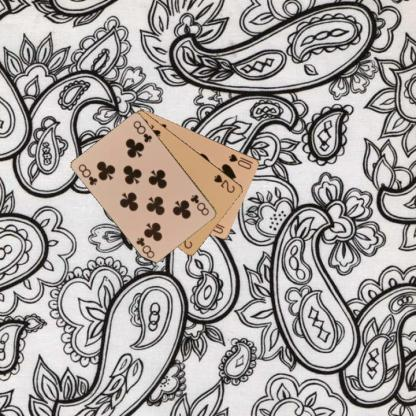10s: (226, 152, 254, 170)
2s: (212, 172, 236, 194)
8c: (76, 161, 98, 187), (188, 192, 210, 216)
